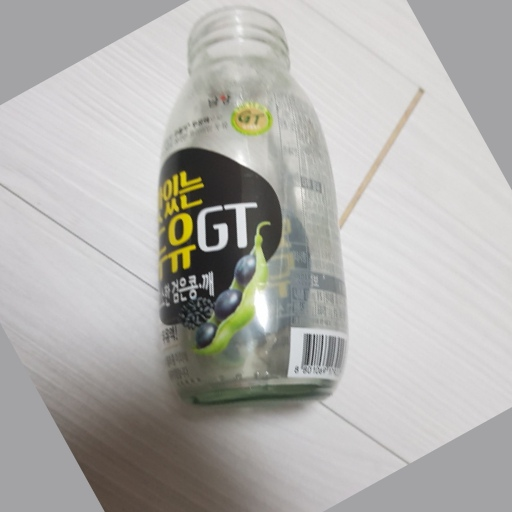Glass_4: (153, 11, 351, 405)
